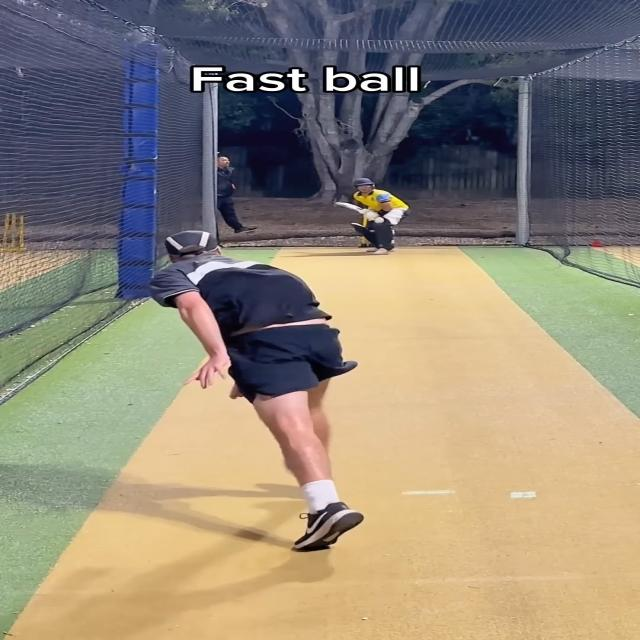Cricket ball: (374, 217, 384, 224)
